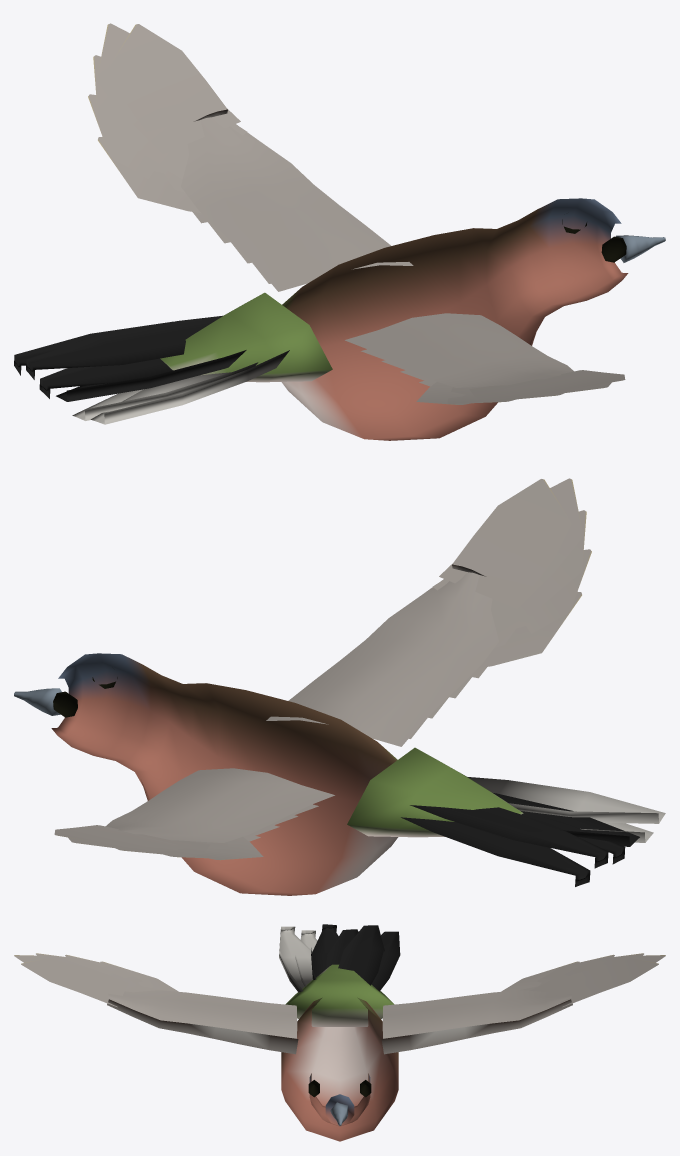
Rendered from SM_Bird_chaffinch_flap1_LOD1.glb.
The picture shows the model from 3 angles, top to bottom: view 1: azimuth 30°, elevation 25°; view 2: azimuth 150°, elevation 25°; view 3: azimuth 270°, elevation 25°; orthographic projection. The views are drawn at different scales.
Visible parts, largest first — view 1: SM_Bird_chaffinch_flap1_LOD1; view 2: SM_Bird_chaffinch_flap1_LOD1; view 3: SM_Bird_chaffinch_flap1_LOD1.
Boxes of the visible parts, x1,y1,x2,y2 form: SM_Bird_chaffinch_flap1_LOD1: (14,23,665,440); SM_Bird_chaffinch_flap1_LOD1: (14,478,665,895); SM_Bird_chaffinch_flap1_LOD1: (14,924,665,1141).
Size of the model in its own units: 0.1715 by 0.0681 by 0.2412.
